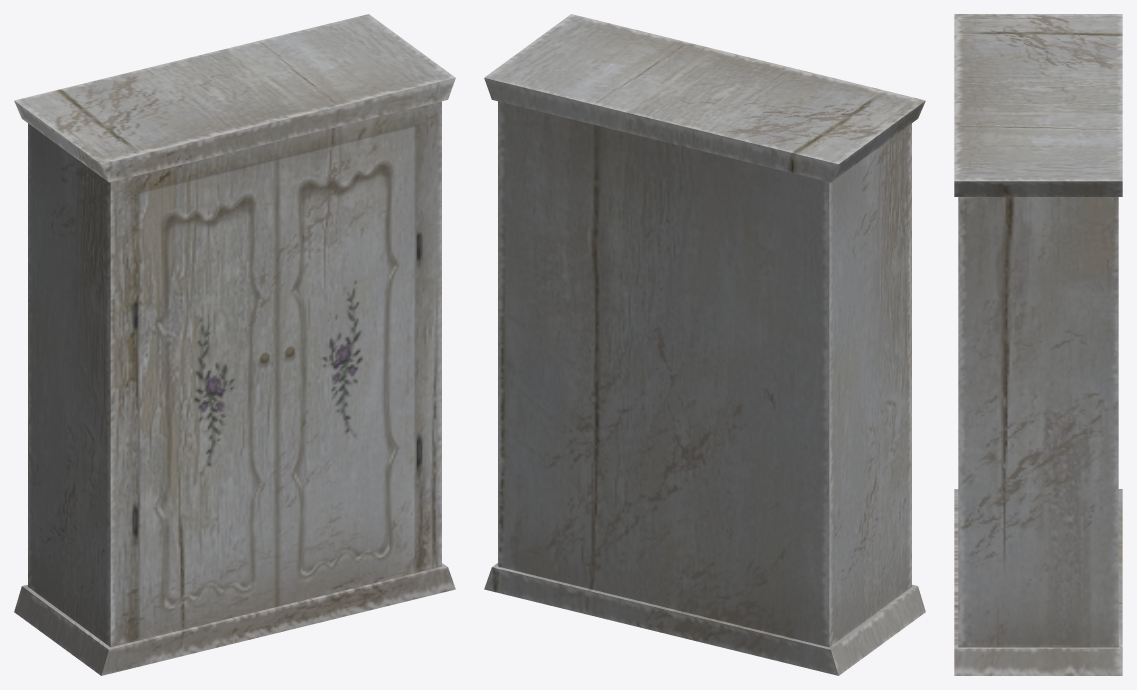
Rendered from Dresser.fbx.
3 renders of one model, left to right at view 1: azimuth 30°, elevation 25°; view 2: azimuth 150°, elevation 25°; view 3: azimuth 270°, elevation 25°, orthographic. The views are drawn at different scales.
Visible parts, largest first — view 1: Dresser; view 2: Dresser; view 3: Dresser.
Boxes of the visible parts, x1=… form: Dresser: x1=14, y1=14, x2=455, y2=675; Dresser: x1=484, y1=14, x2=925, y2=675; Dresser: x1=954, y1=14, x2=1122, y2=675.
Bounding box in the file's own units: 149 × 205 × 63.32.
